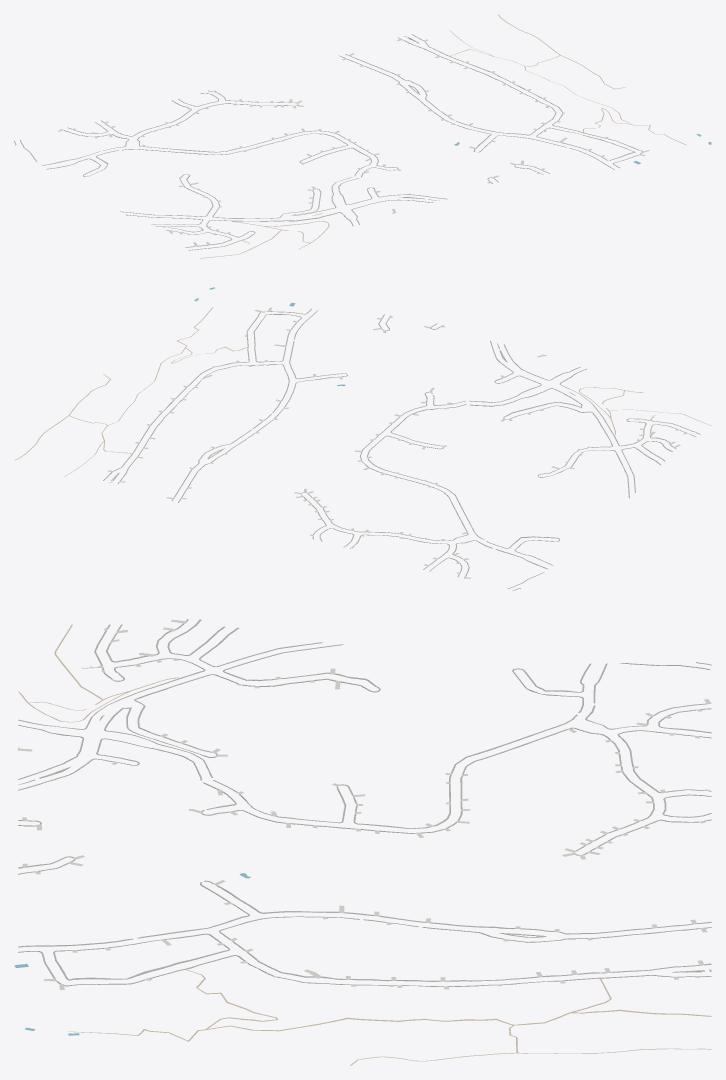
File: ground_r2_c1.glb
3 renders of one model, top to bottom at view 1: azimuth 30°, elevation 25°; view 2: azimuth 150°, elevation 25°; view 3: azimuth 270°, elevation 25°, orthographic. The views are drawn at different scales.
Parts seen in each view (by area): view 1: sidewalks, driveways, paths; view 2: sidewalks, driveways, paths; view 3: sidewalks, driveways, paths.
Part boxes in pixels (left/top/right/bottom): sidewalks: left=14, top=34, right=642, bottom=250; driveways: left=58, top=39, right=649, bottom=250; paths: left=200, top=14, right=686, bottom=258; sidewalks: left=103, top=308, right=700, bottom=590; driveways: left=108, top=307, right=696, bottom=578; paths: left=14, top=307, right=711, bottom=476; sidewalks: left=18, top=619, right=711, bottom=986; driveways: left=17, top=619, right=711, bottom=989; paths: left=18, top=624, right=711, bottom=1065.
Size of the model in its own units: 1125 by 89.69 by 793.
